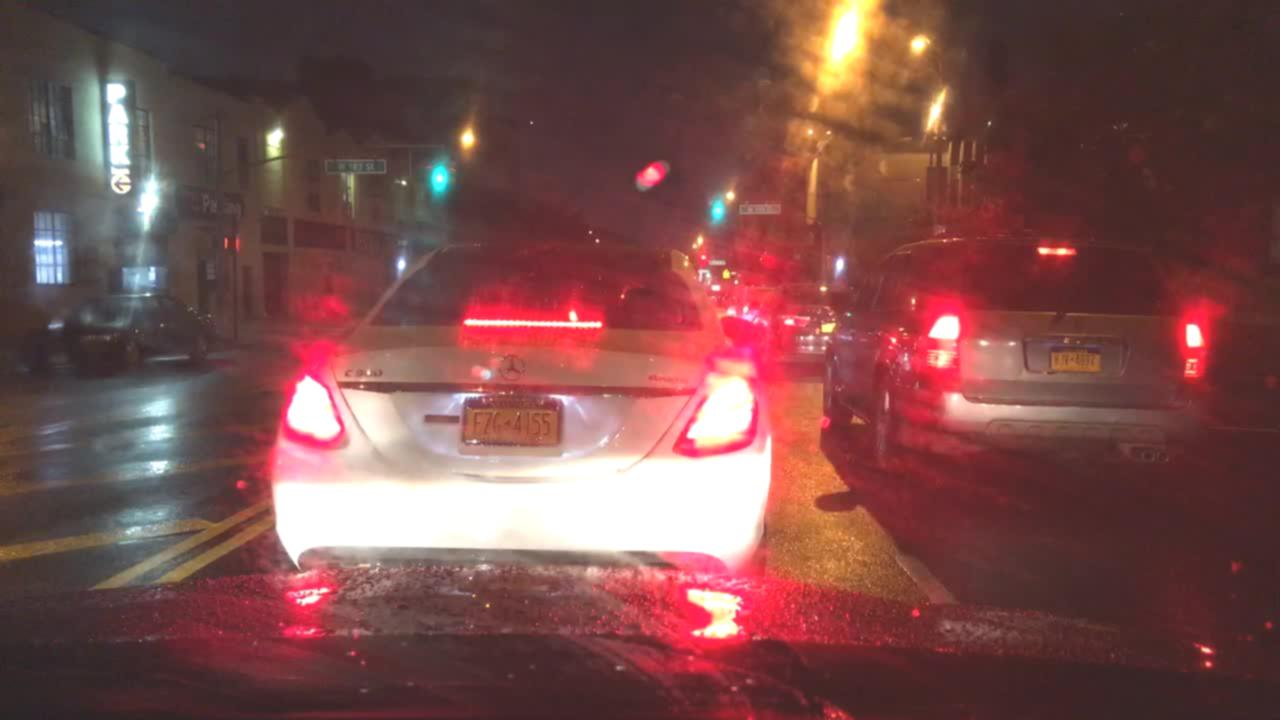Mercedes: (494, 349, 528, 386)
